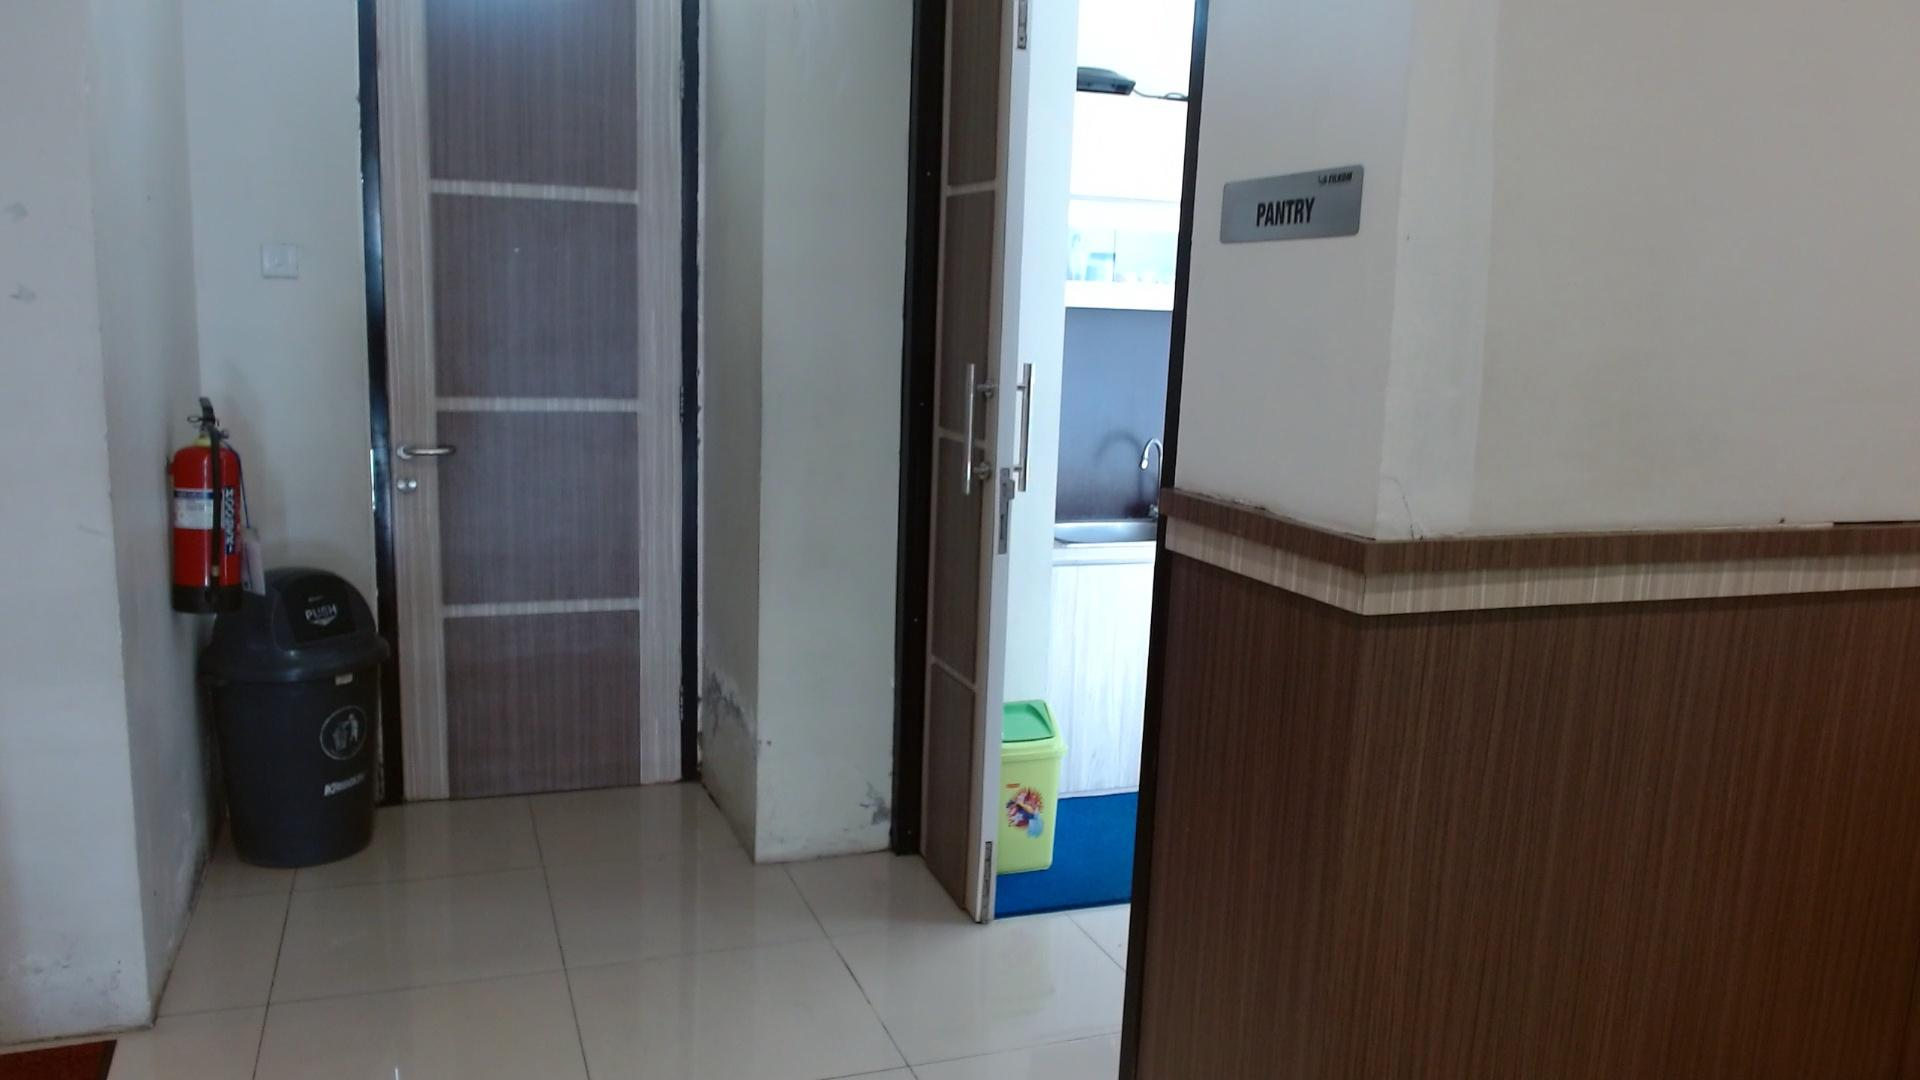plate: (1220, 165, 1364, 245)
